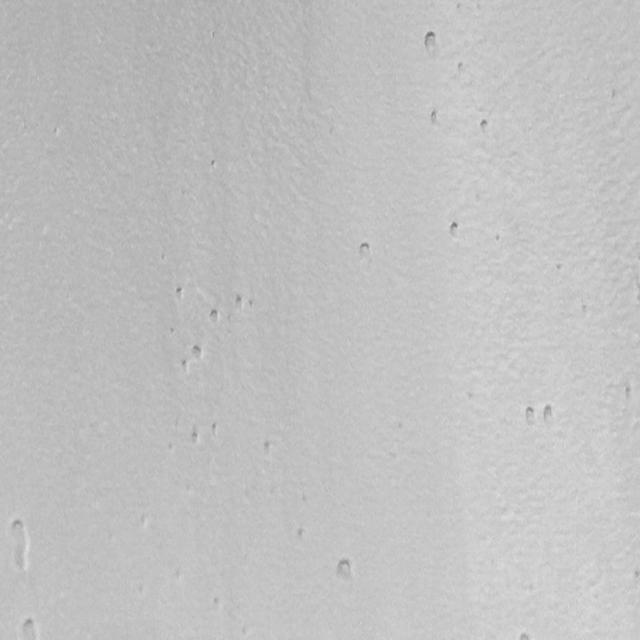pin holes: (4, 516, 33, 576), (335, 556, 360, 587), (523, 403, 545, 431), (540, 400, 560, 430), (420, 30, 440, 59), (17, 616, 41, 640), (356, 240, 376, 266), (446, 218, 466, 240), (259, 438, 278, 460), (428, 109, 446, 128), (208, 306, 225, 326), (477, 118, 494, 138), (622, 384, 636, 407), (191, 343, 207, 362), (189, 430, 204, 449), (211, 422, 224, 442), (233, 293, 247, 311), (180, 359, 194, 376), (212, 594, 225, 612), (296, 526, 310, 542), (517, 628, 536, 639), (454, 59, 466, 76), (494, 232, 508, 246), (174, 287, 186, 303), (209, 421, 221, 437), (209, 158, 222, 172), (166, 442, 176, 456), (167, 326, 177, 339)
